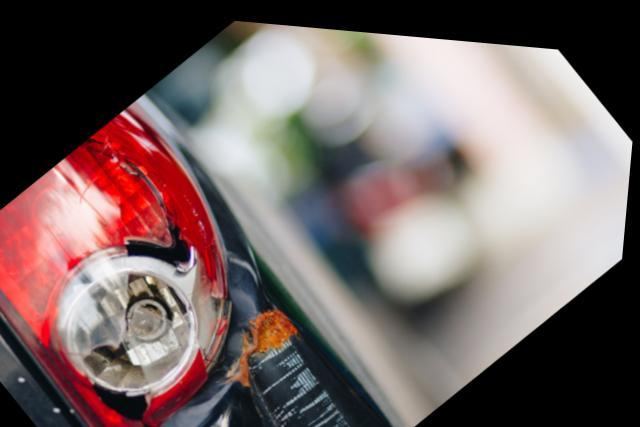lamp broken: (0, 97, 233, 427)
scratch: (254, 330, 361, 427)
